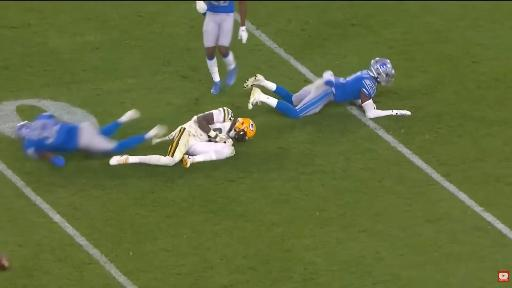Helmet: (369, 58, 394, 85), (234, 118, 255, 141), (15, 122, 31, 139)
Jersey: (24, 114, 78, 157), (182, 107, 233, 141), (334, 70, 376, 102), (206, 1, 234, 13)
Player: (244, 58, 410, 118), (110, 107, 255, 167), (16, 110, 166, 166), (196, 1, 237, 94)
